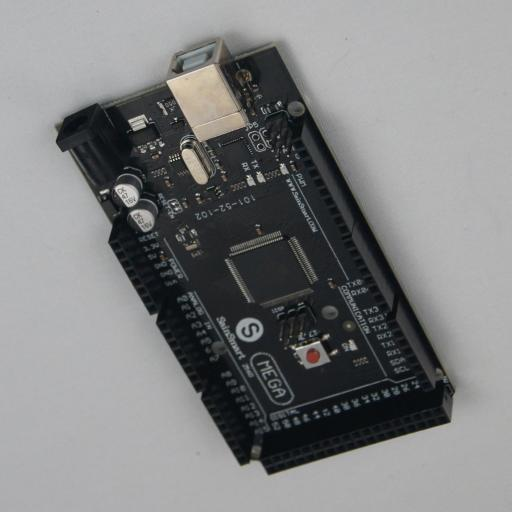Arduino Mega 2560 -Black-: (55, 41, 456, 475)
